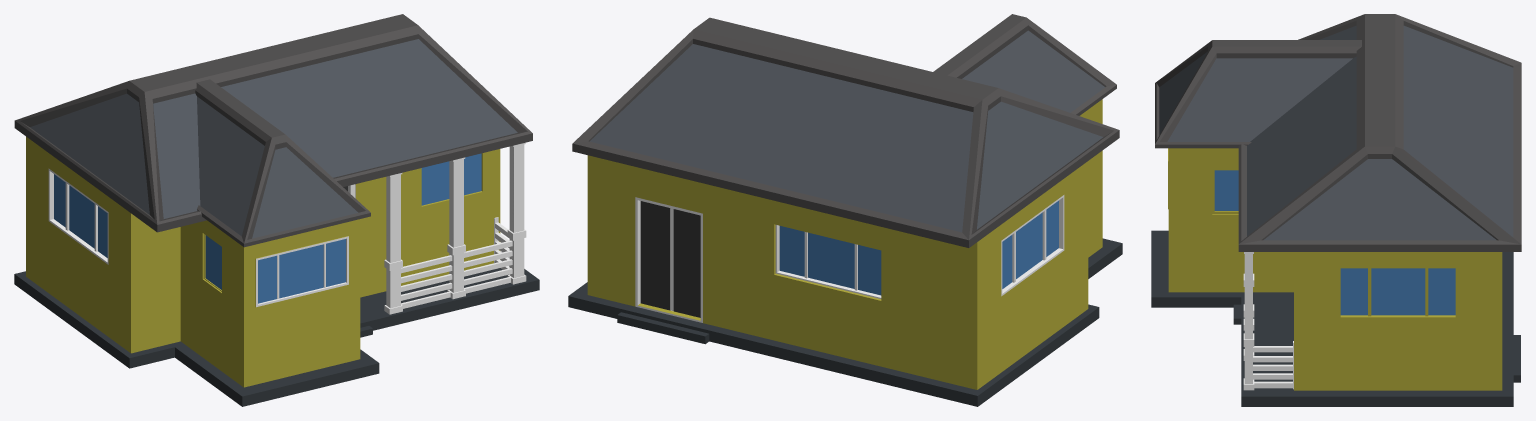
Rendered from House_3.fbx.
The picture shows the model from 3 angles, left to right: view 1: azimuth 30°, elevation 25°; view 2: azimuth 150°, elevation 25°; view 3: azimuth 270°, elevation 25°; orthographic projection. The views are drawn at different scales.
Parts seen in each view (by area): view 1: House_3; view 2: House_3; view 3: House_3.
Part boxes in pixels (bbox=[...]): House_3: bbox=[14, 14, 539, 406]; House_3: bbox=[568, 14, 1122, 406]; House_3: bbox=[1151, 14, 1521, 406].
Bounding box in the file's own units: 1038 × 598 × 865.
